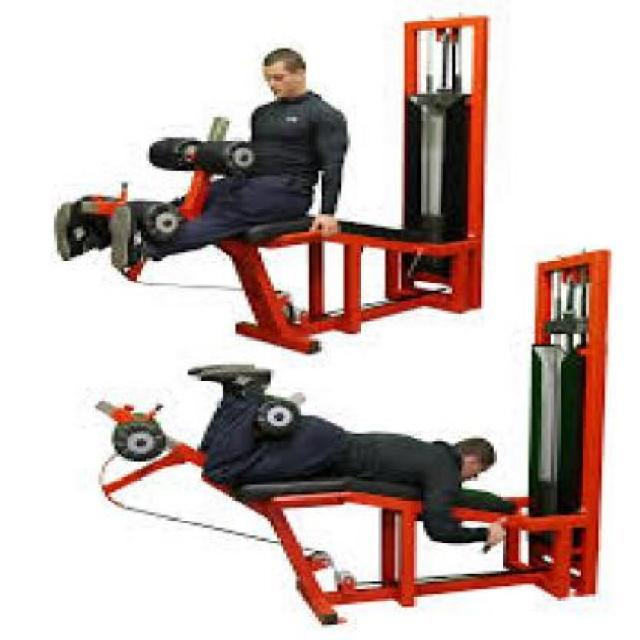reg curl machine: (89, 237, 625, 631)
